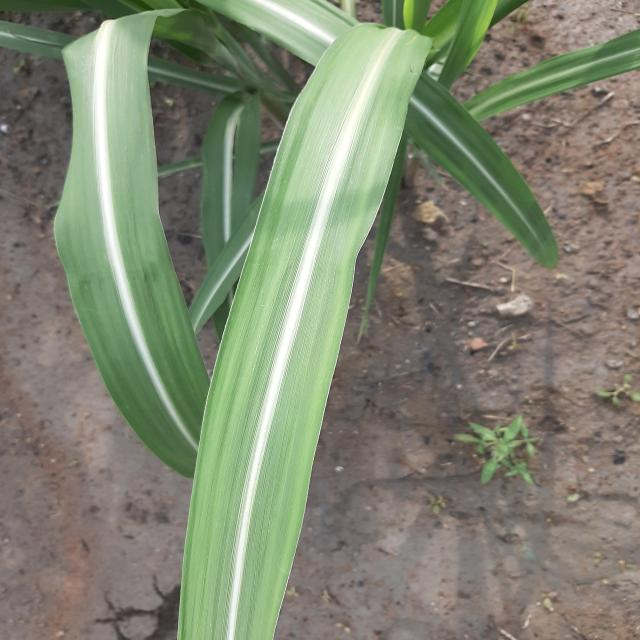Sugarcane: (3, 1, 637, 638)
